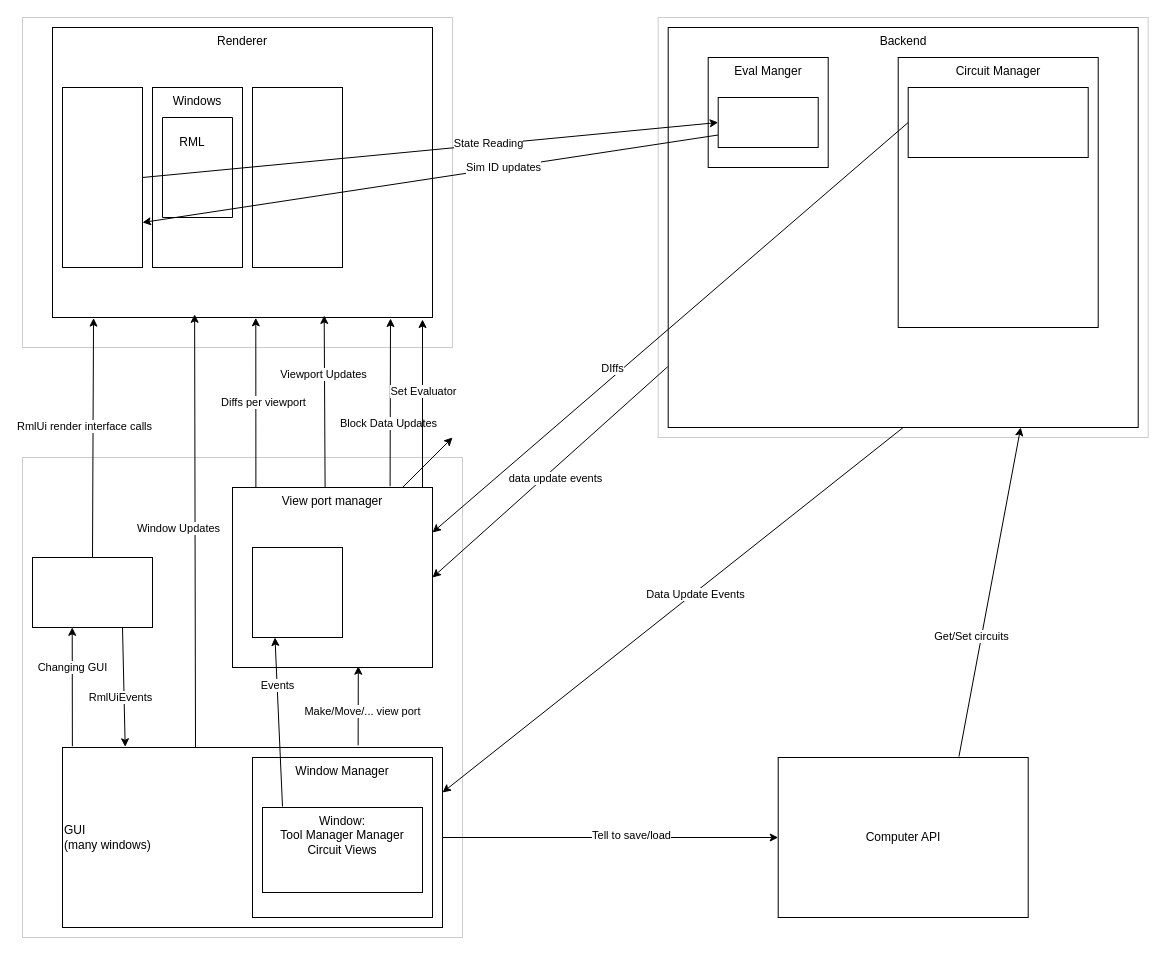
Some shapes in this 1166 by 955 pixel diagram are drawn without their labels. Each missing label, with the centre of its shape:
Circuit: the point at 997,122
Circuit Views: the point at 297,592
Evaluator: the point at 767,122
Render Block Data: the point at 297,177
RmlUi: the point at 92,592
Viewports: the point at 102,177
